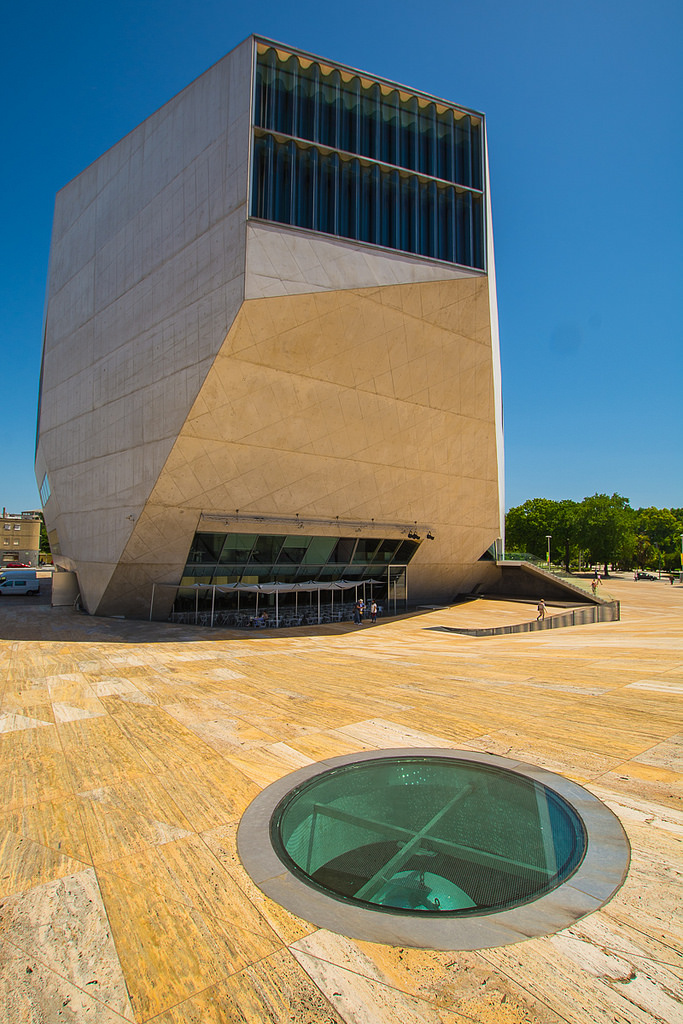musica: (31, 31, 504, 621)
